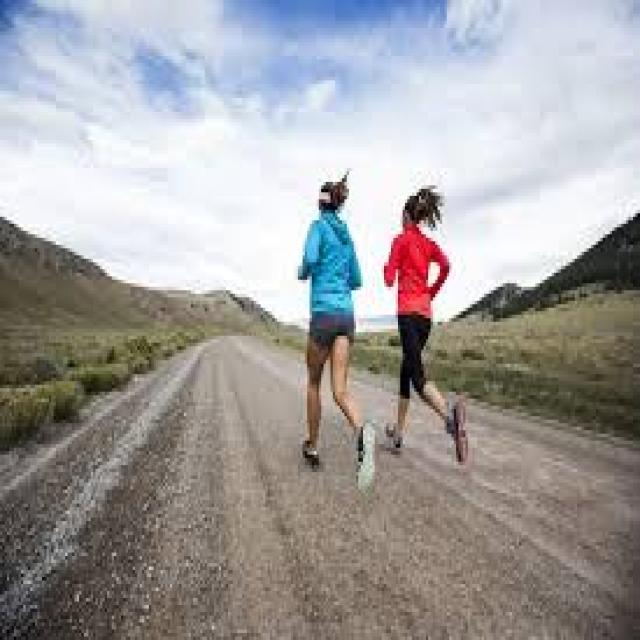running: (295, 174, 380, 488), (383, 188, 473, 463)
